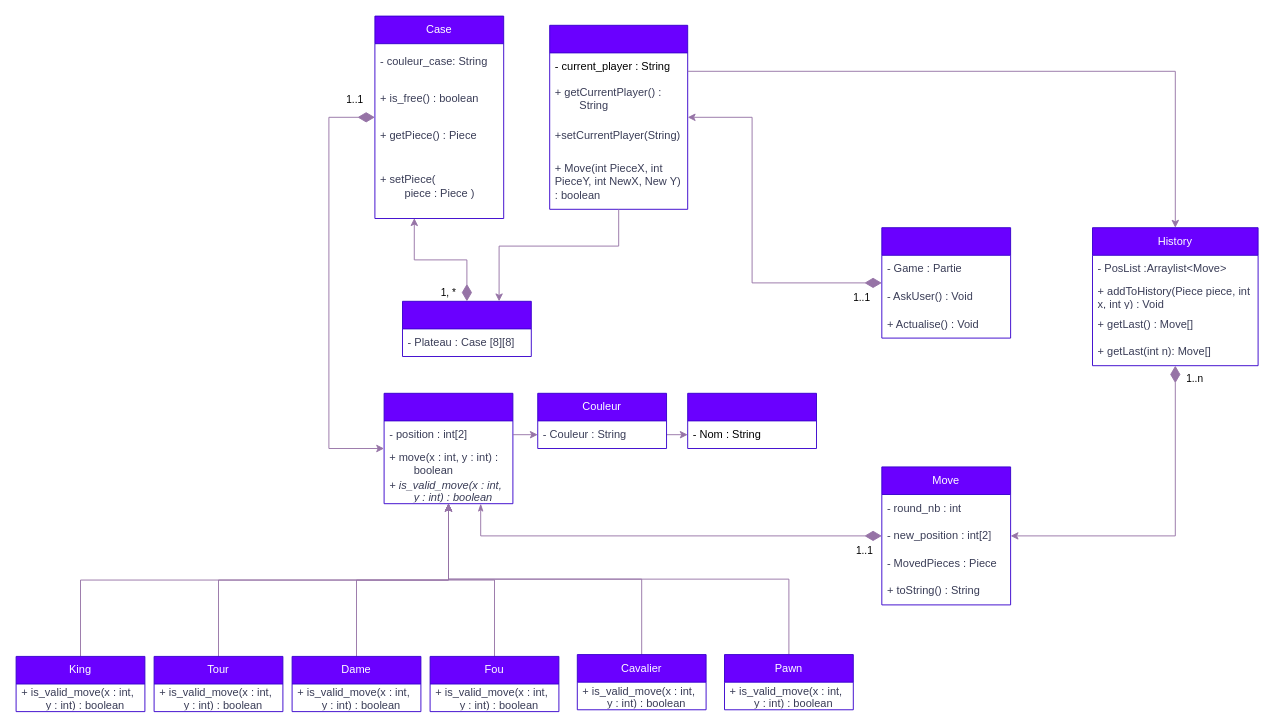
Image size: 1274x728. Some labels were removed from this diagram. Here are the shapes that lost their labels. From the top down, the box of each, then its label:
(549, 24, 688, 209): Partie
(881, 227, 1011, 338): Screen
(402, 300, 531, 356): Echiquier
(687, 392, 816, 448): Joueur
(383, 392, 513, 504): Piece
